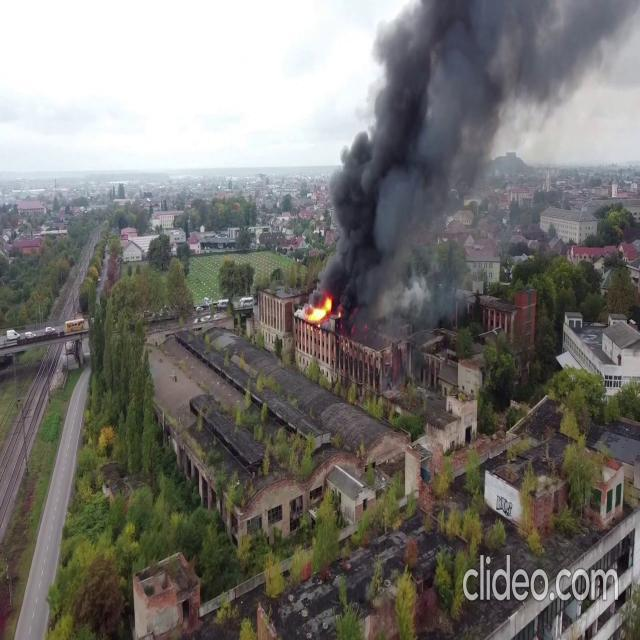Fire: (302, 290, 336, 328)
Smoke: (316, 0, 613, 317)
